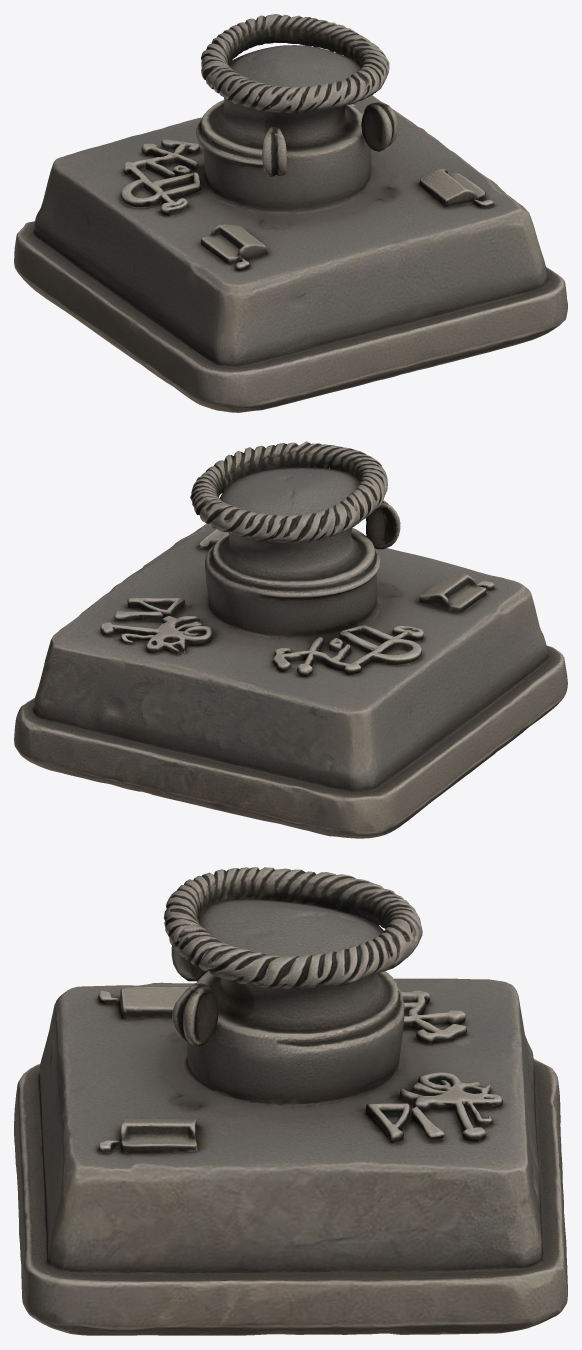
The model's file is bronze-seal.glb.
The picture shows the model from 3 angles, top to bottom: view 1: azimuth 30°, elevation 25°; view 2: azimuth 150°, elevation 25°; view 3: azimuth 270°, elevation 25°; orthographic projection. The views are drawn at different scales.
Parts seen in each view (by area): view 1: tripo_node_4df04c27-a5b1-4843-a8b2-9f2b52ed7a13; view 2: tripo_node_4df04c27-a5b1-4843-a8b2-9f2b52ed7a13; view 3: tripo_node_4df04c27-a5b1-4843-a8b2-9f2b52ed7a13.
Part boxes in pixels (bbox=[...]): tripo_node_4df04c27-a5b1-4843-a8b2-9f2b52ed7a13: bbox=[14, 14, 567, 412]; tripo_node_4df04c27-a5b1-4843-a8b2-9f2b52ed7a13: bbox=[14, 441, 567, 838]; tripo_node_4df04c27-a5b1-4843-a8b2-9f2b52ed7a13: bbox=[14, 867, 567, 1335].
Size of the model in its own units: 0.9999 by 0.6447 by 1.
Materials: 1 (1 with a texture image).
